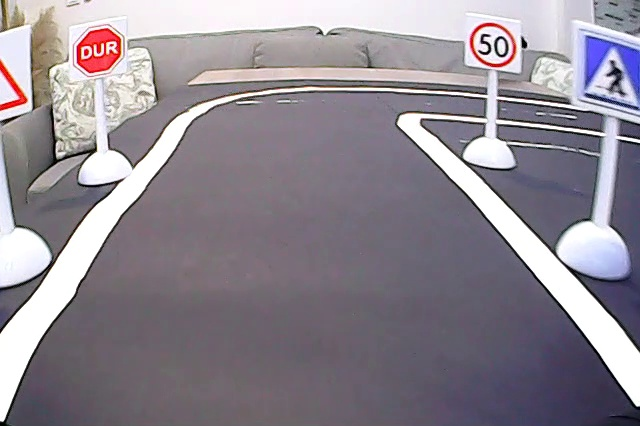pedestrian crossing: (578, 24, 640, 115)
speed limit 50: (466, 15, 518, 71)
stop sign: (70, 25, 129, 78)
